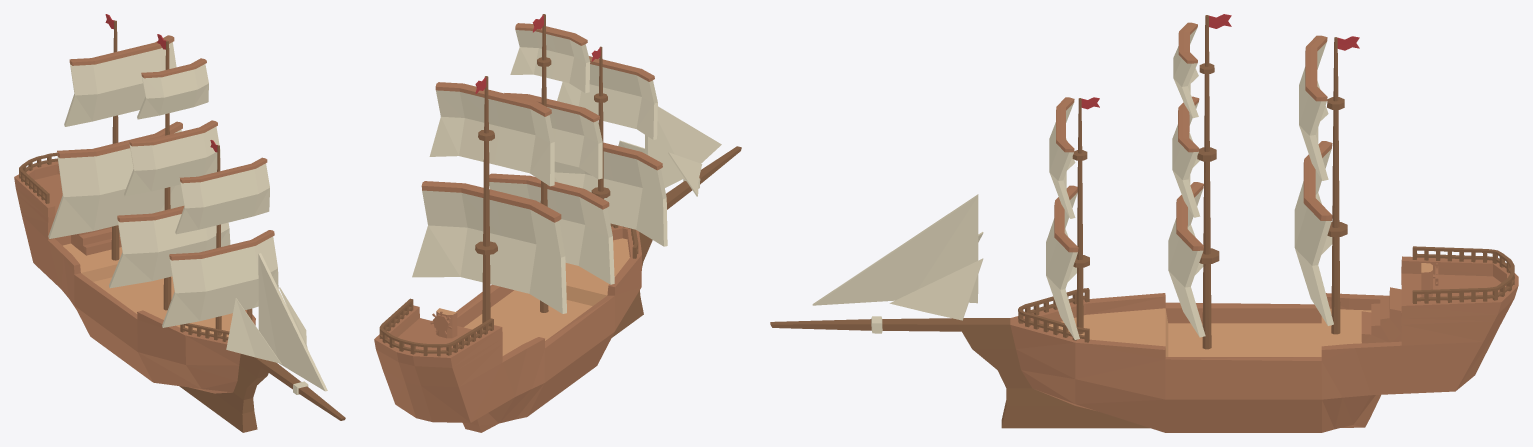
The model's file is Sail ship.glb.
The picture shows the model from 3 angles, left to right: view 1: azimuth 30°, elevation 25°; view 2: azimuth 150°, elevation 25°; view 3: azimuth 270°, elevation 25°; orthographic projection. The views are drawn at different scales.
Visible parts, largest first — view 1: BackSail; view 2: BackSail; view 3: BackSail.
Part boxes in pixels (<box>): BackSail: <box>14,14,345,432</box>; BackSail: <box>374,14,741,432</box>; BackSail: <box>770,14,1518,432</box>.
Size of the model in its own units: 1.7 by 3.85 by 6.38.
Materials: 1 (1 with a texture image).
